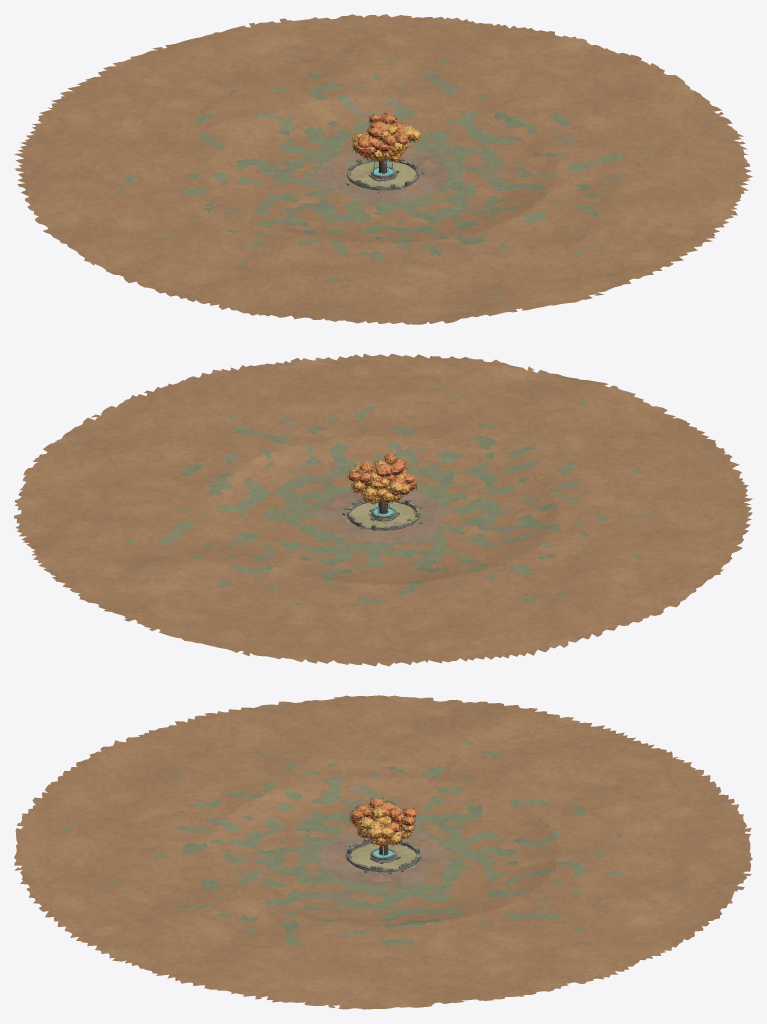
The model's file is spring_lowpoly.glb.
3 views of the same model, one above another, from view 1: azimuth 30°, elevation 25°; view 2: azimuth 150°, elevation 25°; view 3: azimuth 270°, elevation 25° (orthographic).
Parts seen in each view (by area): view 1: Ground, Maple3, Maple1, RingWall; view 2: Ground, Maple3, Maple1, RingWall; view 3: Ground, Maple3, Maple1, RingWall.
Boxes of the visible parts, bbox=[...] form: Ground: bbox=[14, 14, 752, 324]; Maple3: bbox=[354, 112, 409, 173]; Maple1: bbox=[351, 124, 421, 174]; RingWall: bbox=[346, 158, 424, 192]; Ground: bbox=[14, 353, 752, 666]; Maple3: bbox=[347, 453, 417, 513]; Maple1: bbox=[348, 459, 410, 514]; RingWall: bbox=[342, 499, 422, 530]; Ground: bbox=[14, 695, 752, 1009]; Maple3: bbox=[349, 797, 416, 855]; Maple1: bbox=[349, 806, 415, 855]; RingWall: bbox=[345, 838, 421, 873].
Size of the model in its own units: 181 by 15.12 by 181.
